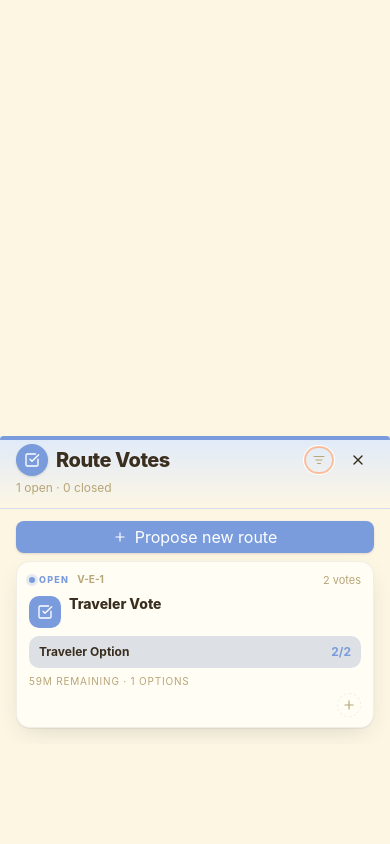
Scenario: RouteVotePanel › uses the shared vote card list and traveler management in detail mode
Check: the button "Cancel" is not shown
Click the text "Traveler Vote": {"x": 115, "y": 604} [69,594,162,613]
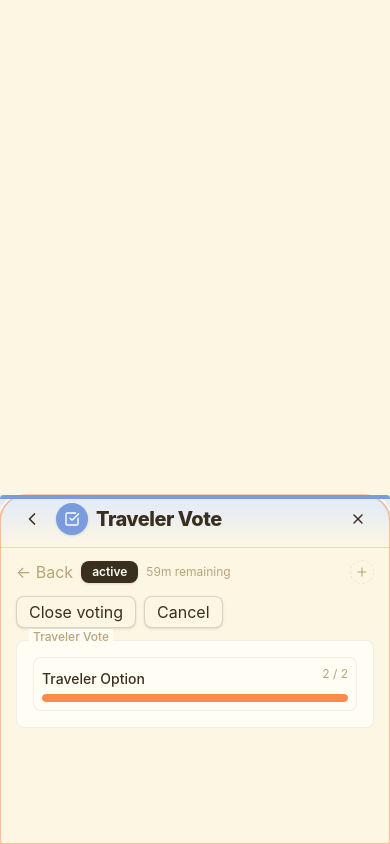
Check: the button "Close voting" is shown, box [16,596,136,628]
Check: the button "Cancel" is shown, box [144,596,223,628]
